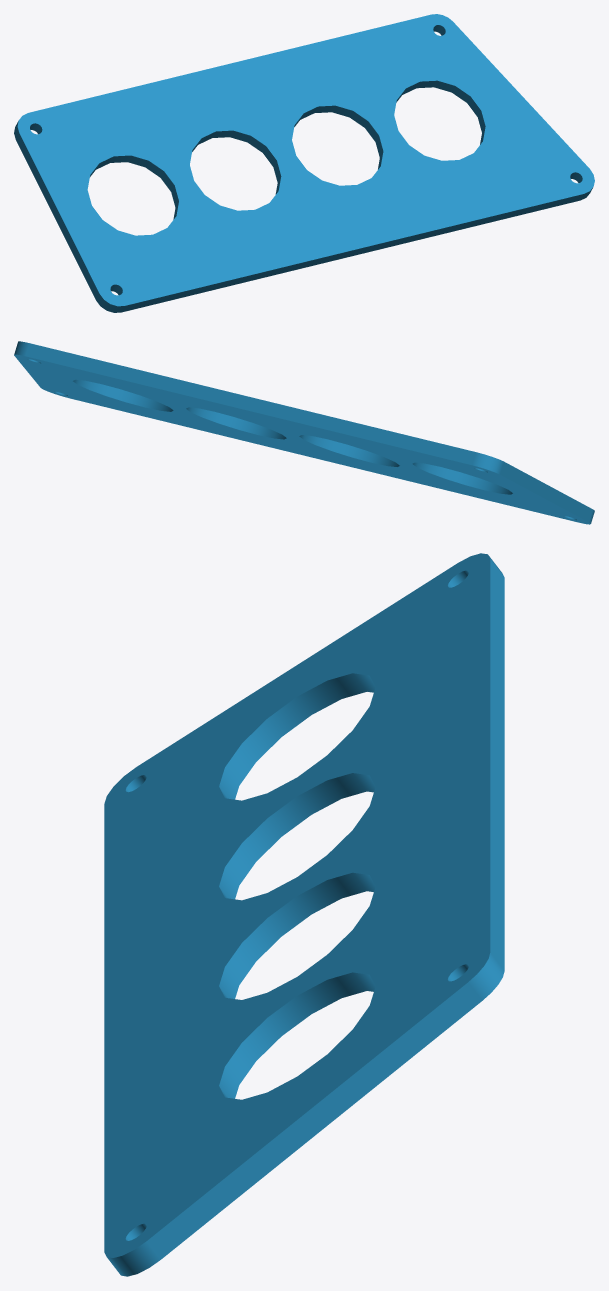
3 views of the same model, one above another, from view 1: azimuth 30°, elevation 25°; view 2: azimuth 150°, elevation 25°; view 3: azimuth 270°, elevation 25° (orthographic). The views are drawn at different scales.
Visible parts, largest first — view 1: mesh7958, mesh7961, mesh7960, mesh7971, mesh7972, mesh7973, mesh7974; view 2: mesh7959, mesh7963, mesh7960, mesh7971, mesh7973, mesh7974, mesh7972, mesh7967; view 3: mesh7958, mesh7962, mesh7963, mesh7973, mesh7974, mesh7971, mesh7972, mesh7965.
Boxes of the visible parts, x1=… form: mesh7958: x1=17, y1=14, x2=594, y2=306; mesh7961: x1=121, y1=194, x2=583, y2=312; mesh7960: x1=16, y1=133, x2=99, y2=300; mesh7971: x1=90, y1=155, x2=178, y2=219; mesh7972: x1=192, y1=130, x2=281, y2=194; mesh7973: x1=294, y1=105, x2=383, y2=169; mesh7974: x1=396, y1=80, x2=485, y2=144; mesh7959: x1=14, y1=354, x2=590, y2=524; mesh7963: x1=26, y1=343, x2=475, y2=464; mesh7960: x1=500, y1=461, x2=592, y2=522; mesh7971: x1=412, y1=462, x2=512, y2=494; mesh7973: x1=186, y1=407, x2=286, y2=439; mesh7974: x1=73, y1=379, x2=173, y2=411; mesh7972: x1=299, y1=435, x2=399, y2=466; mesh7967: x1=472, y1=452, x2=503, y2=474; mesh7958: x1=104, y1=553, x2=490, y2=1257; mesh7962: x1=147, y1=982, x2=482, y2=1259; mesh7963: x1=490, y1=559, x2=504, y2=970; mesh7973: x1=219, y1=872, x2=375, y2=998; mesh7974: x1=219, y1=972, x2=375, y2=1098; mesh7971: x1=219, y1=673, x2=375, y2=799; mesh7972: x1=219, y1=773, x2=375, y2=899; mesh7965: x1=107, y1=1241, x2=160, y2=1276.
Size of the model in its own units: 0.1449 by 0.037 by 0.0509.
